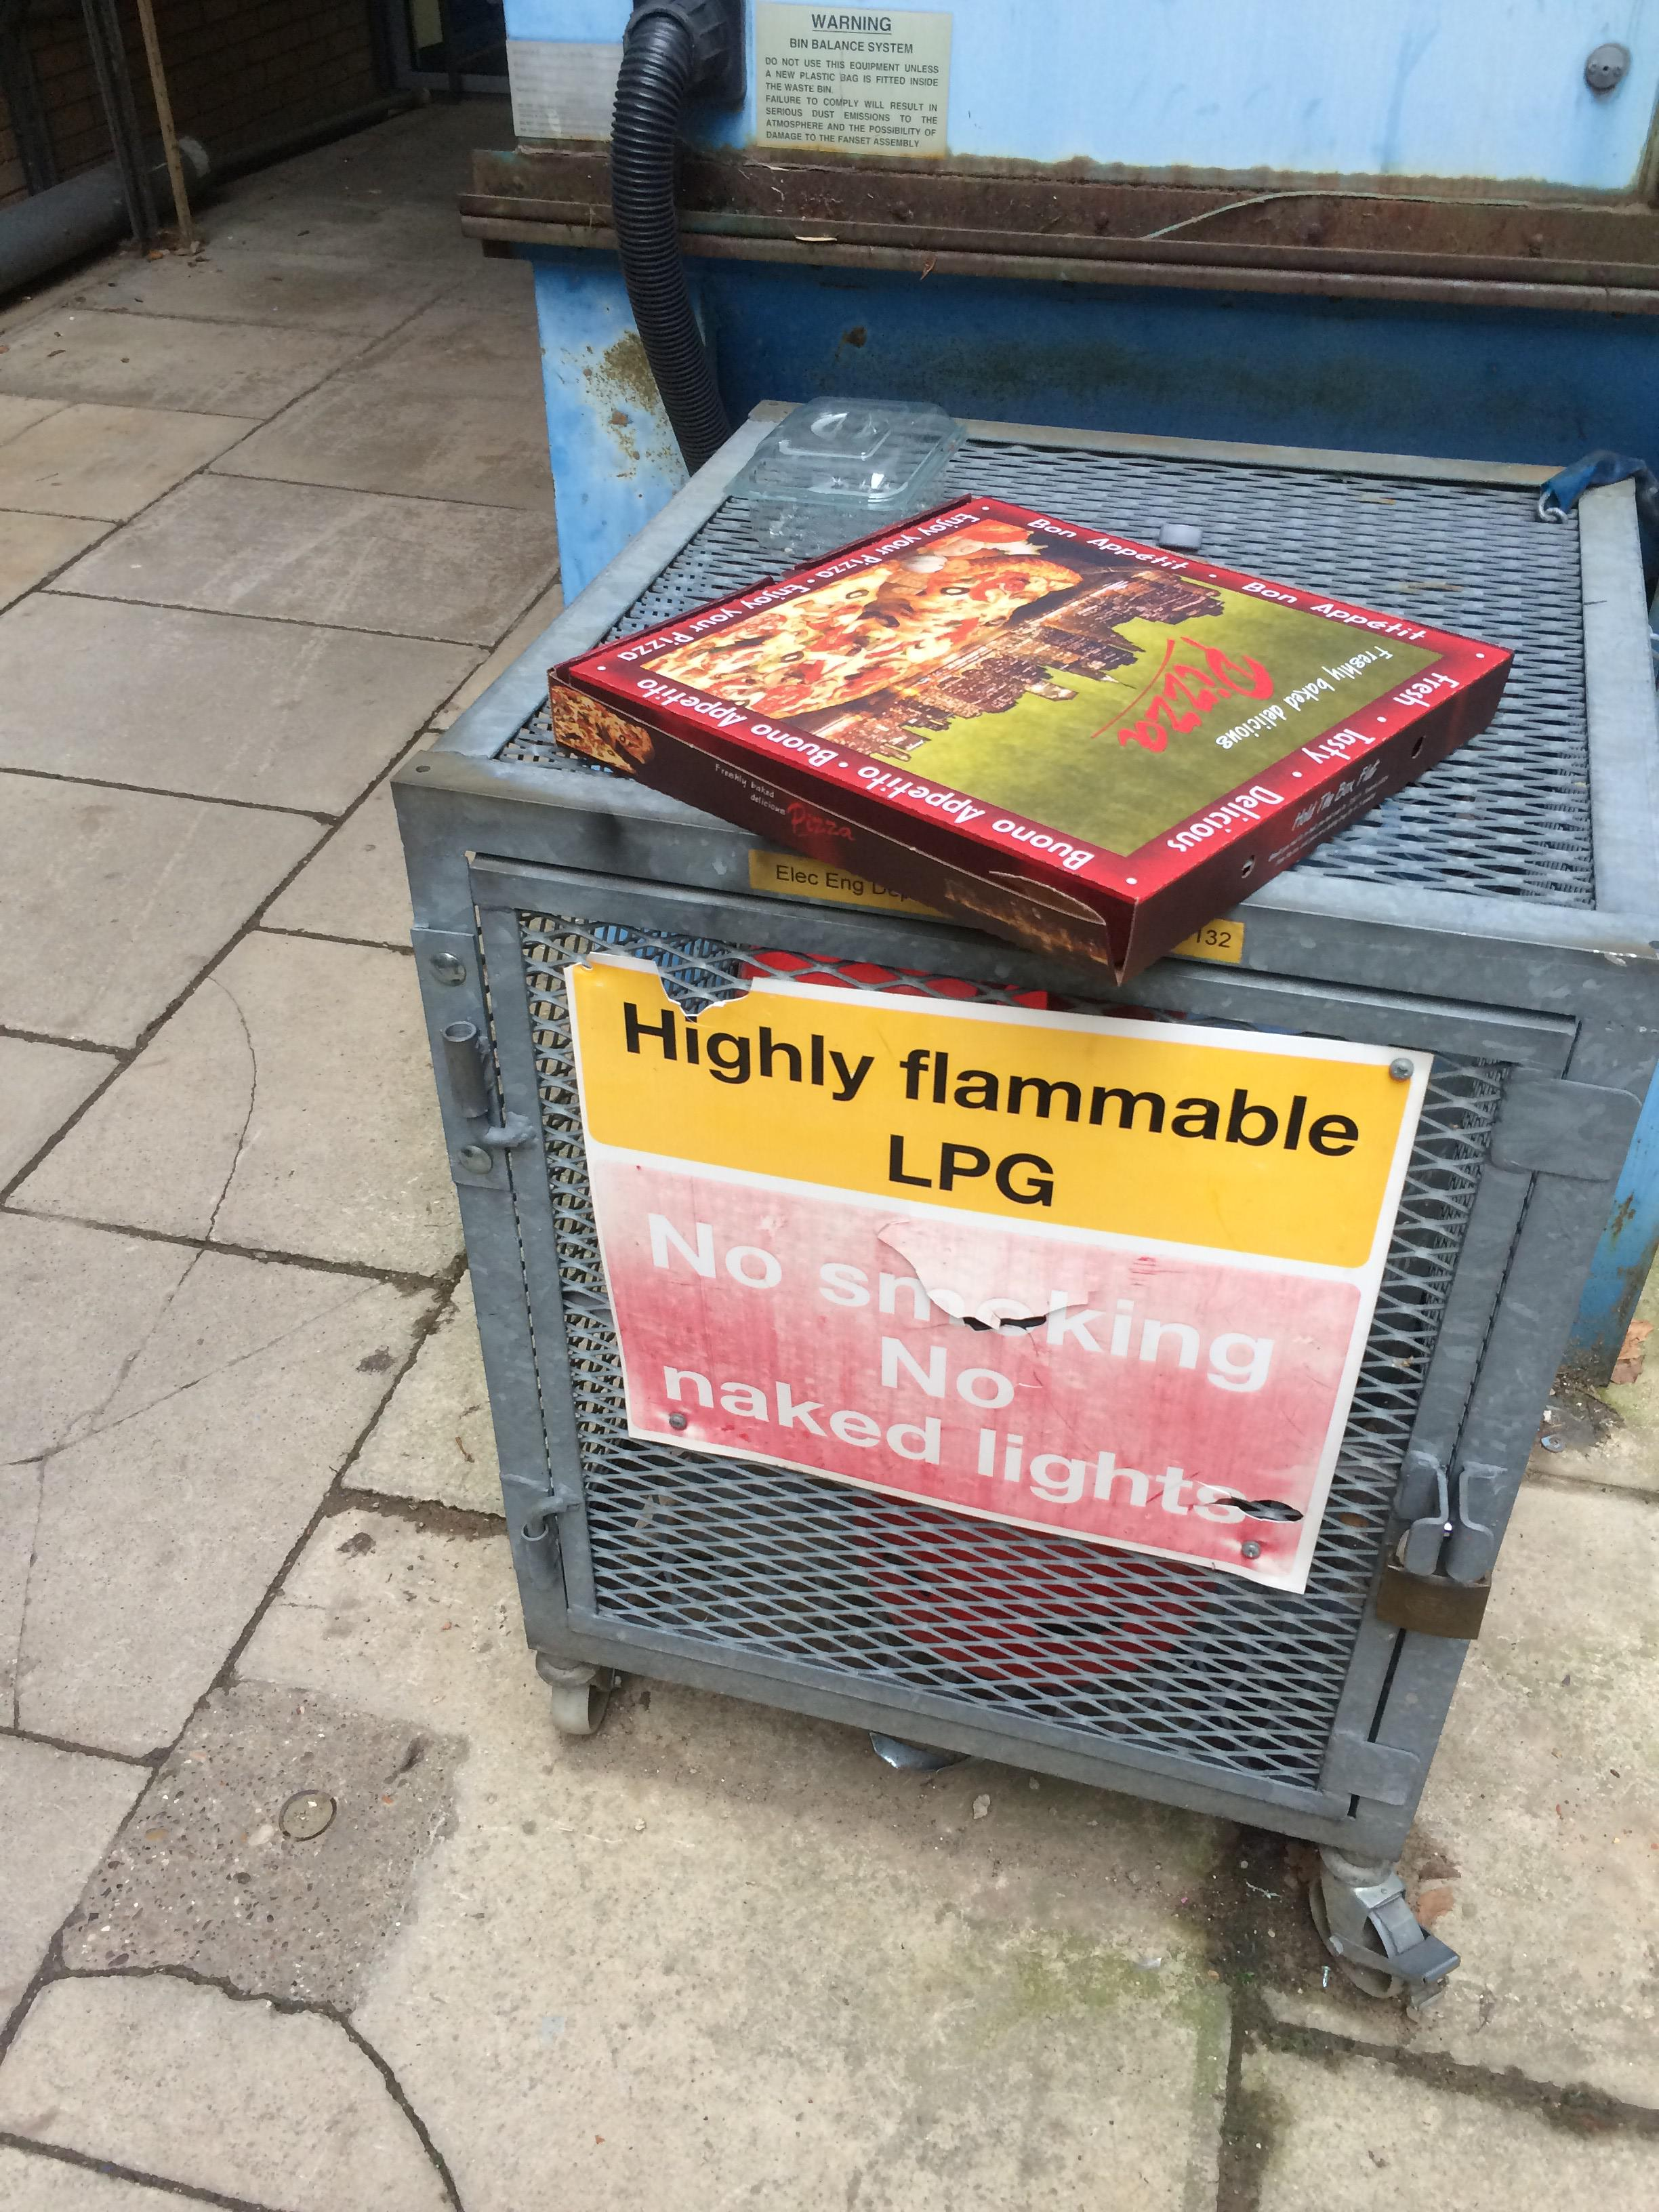Trash: (537, 493, 1506, 977)
